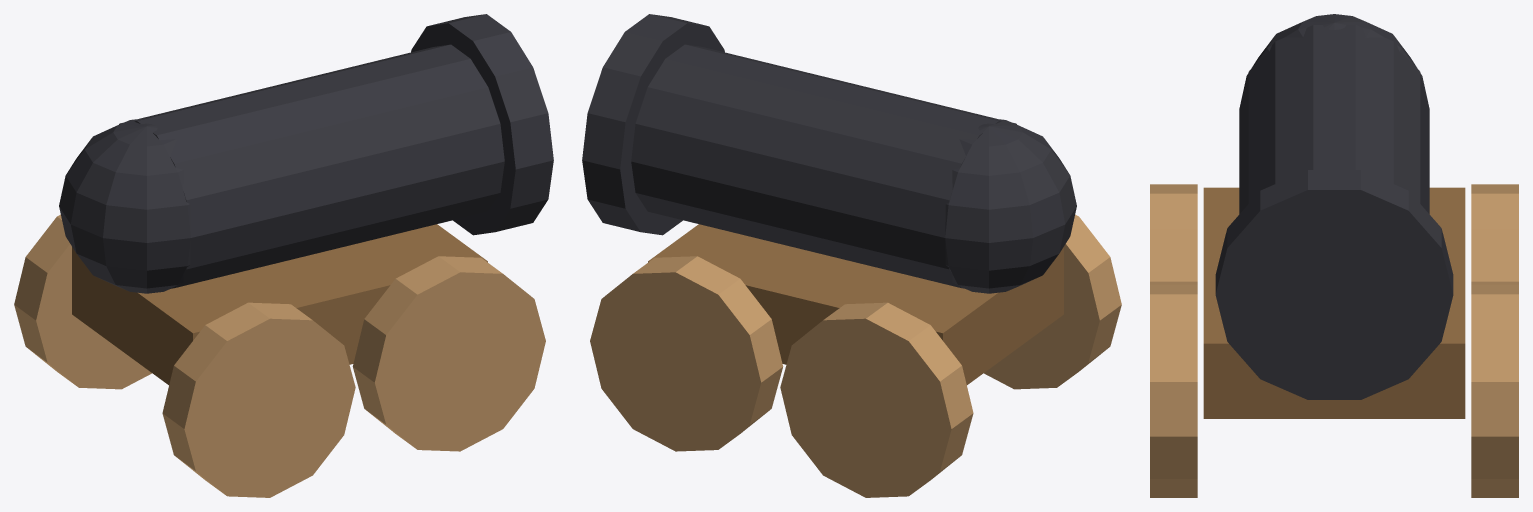
The model's file is SM_Trap_Cannon.fbx.
3 views of the same model, side by side, from view 1: azimuth 30°, elevation 25°; view 2: azimuth 150°, elevation 25°; view 3: azimuth 270°, elevation 25° (orthographic). The views are drawn at different scales.
Visible parts, largest first — view 1: SM_Trap_Cannon; view 2: SM_Trap_Cannon; view 3: SM_Trap_Cannon.
Part boxes in pixels (x1,y1,x2,y2): SM_Trap_Cannon: [14, 14, 553, 497]; SM_Trap_Cannon: [582, 14, 1121, 497]; SM_Trap_Cannon: [1150, 14, 1518, 497].
Bounding box in the file's own units: 0.9 × 0.675 × 0.62.
